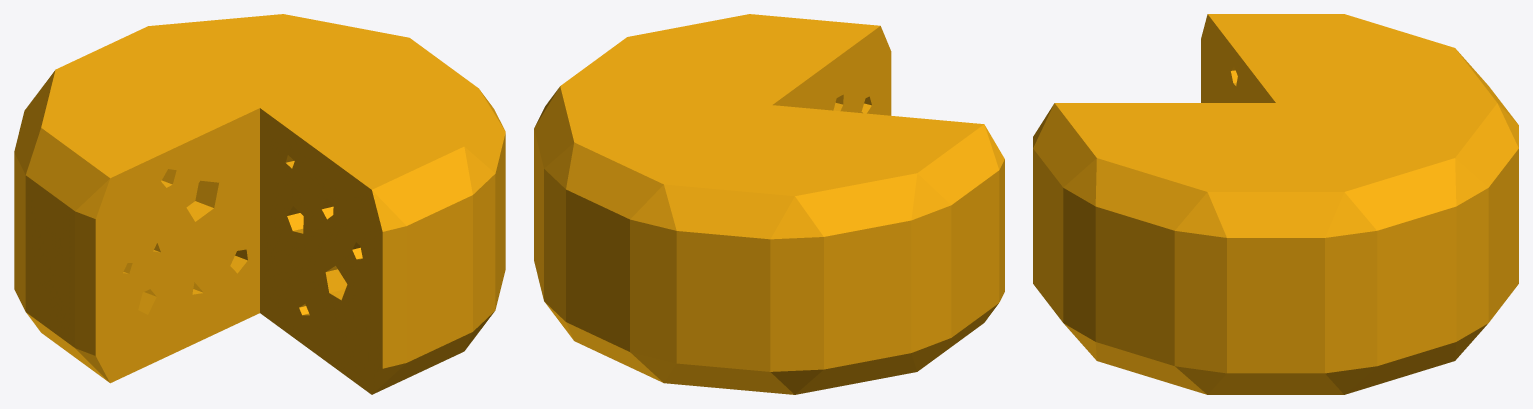
The model's file is cheese.fbx.
The picture shows the model from 3 angles, left to right: view 1: azimuth 30°, elevation 25°; view 2: azimuth 150°, elevation 25°; view 3: azimuth 270°, elevation 25°; orthographic projection. The views are drawn at different scales.
Parts seen in each view (by area): view 1: Cylinder; view 2: Cylinder; view 3: Cylinder.
Boxes of the visible parts, left/top/right/bottom form: Cylinder: left=14, top=14, right=505, bottom=394; Cylinder: left=534, top=14, right=1004, bottom=394; Cylinder: left=1033, top=14, right=1518, bottom=394.
Bounding box in the file's own units: 0.2965 × 0.1386 × 0.3007.
Materials: 1 (1 with a texture image).
